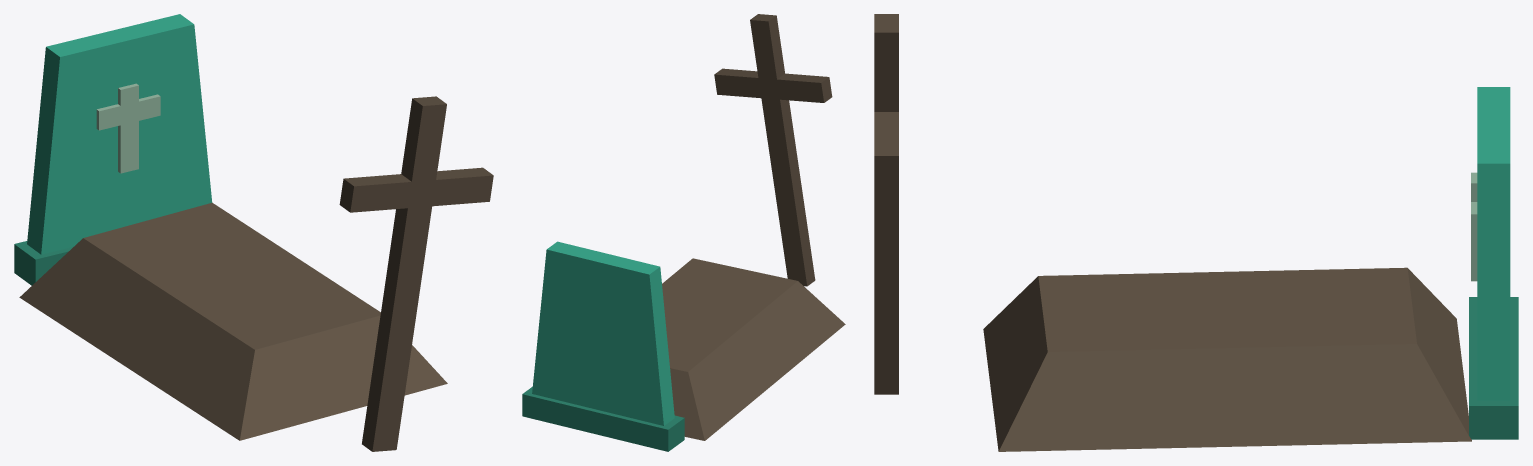
File: cova.glb
3 renders of one model, left to right at view 1: azimuth 30°, elevation 25°; view 2: azimuth 150°, elevation 25°; view 3: azimuth 270°, elevation 25°, orthographic. The views are drawn at different scales.
Visible parts, largest first — view 1: monte, lapide, cruz; view 2: lapide, monte, cruz; view 3: monte, lapide, cruz.
Boxes of the visible parts, <box> form: monte: <box>19,202,447,440</box>; lapide: <box>14,14,212,285</box>; cruz: <box>339,96,493,451</box>; lapide: <box>522,241,684,451</box>; monte: <box>662,258,845,440</box>; cruz: <box>714,14,832,286</box>; monte: <box>983,267,1471,451</box>; lapide: <box>1469,87,1518,439</box>; cruz: <box>874,14,898,394</box>.
Bounding box in the file's own units: 0.7587 × 1.05 × 1.55.
